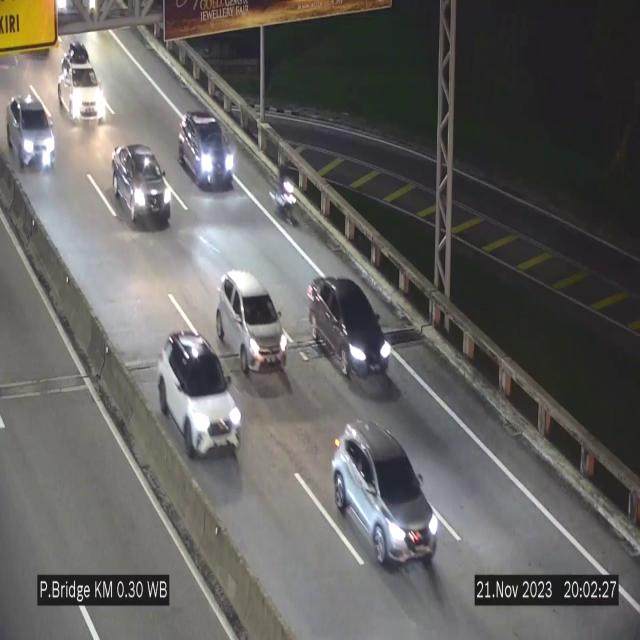Car: (331, 422, 439, 564), (158, 331, 242, 457), (307, 276, 389, 390), (216, 272, 288, 376), (173, 110, 239, 198), (111, 145, 170, 227), (52, 39, 108, 124), (7, 95, 55, 168)
Motorcycle: (274, 157, 298, 227)
